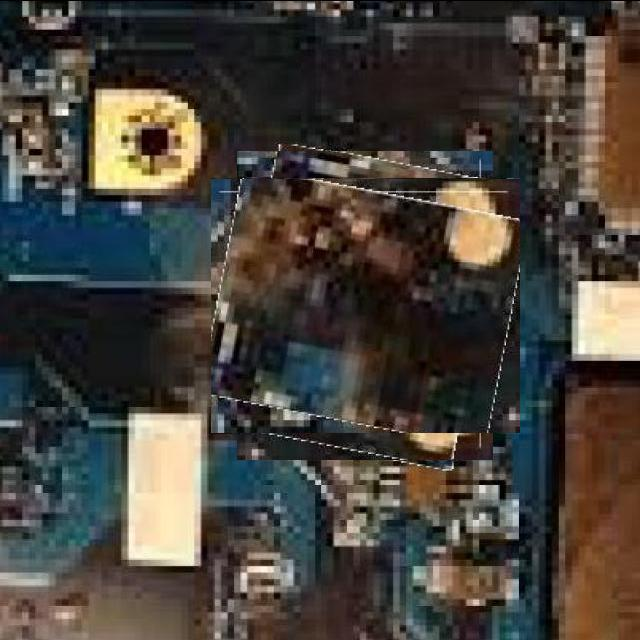damged: (224, 164, 507, 447)
